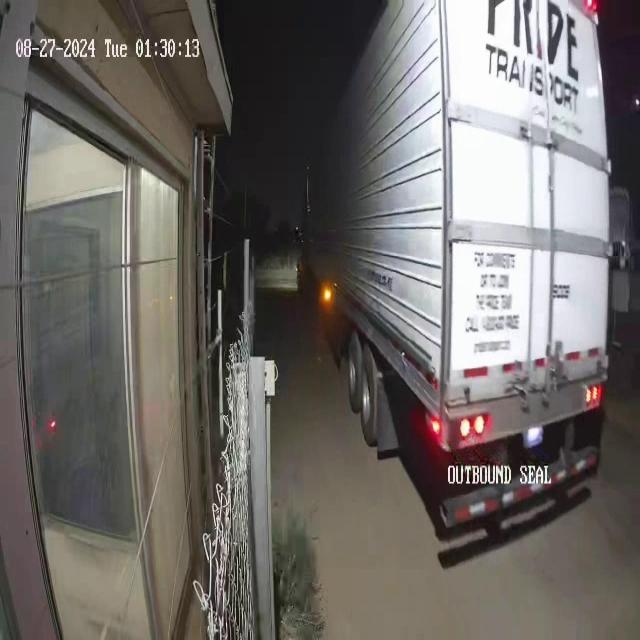TRUCK_OUT: (307, 1, 614, 557)
